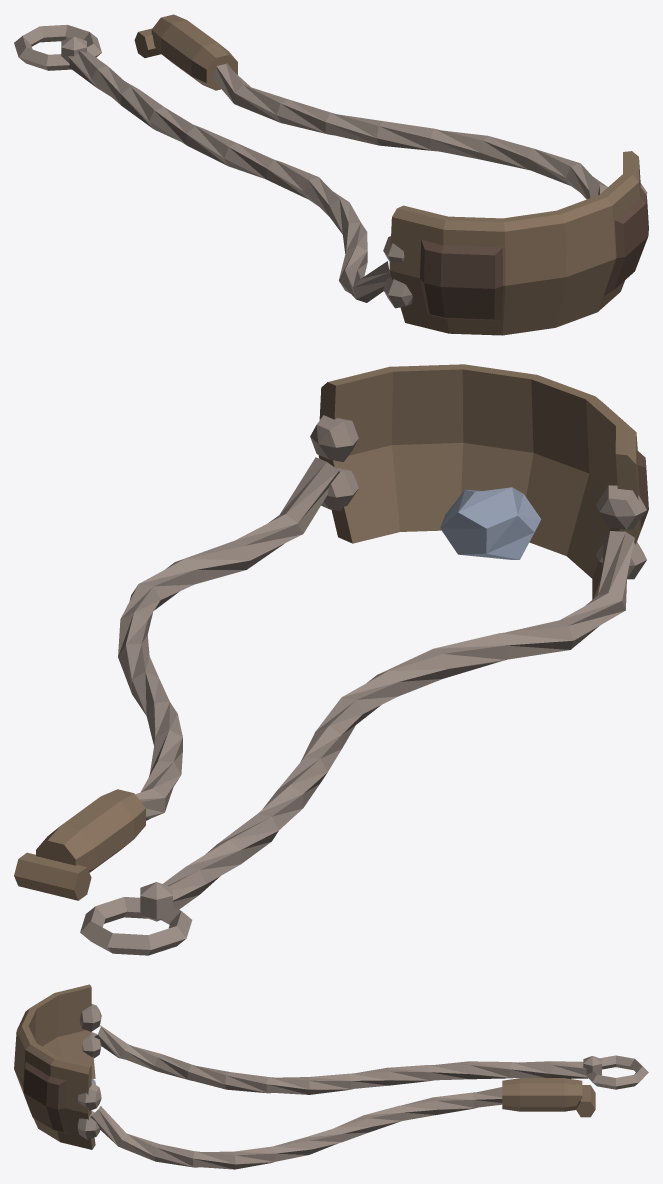
The model's file is sling-e5b9b7.glb.
The picture shows the model from 3 angles, top to bottom: view 1: azimuth 30°, elevation 25°; view 2: azimuth 150°, elevation 25°; view 3: azimuth 270°, elevation 25°; orthographic projection. The views are drawn at different scales.
Visible parts, largest first — view 1: sling-matte; view 2: sling-matte, stone-mesh; view 3: sling-matte.
Part boxes in pixels (<box>): sling-matte: <box>14,14,648,335</box>; sling-matte: <box>14,364,648,955</box>; stone-mesh: <box>440,487,541,559</box>; sling-matte: <box>14,984,648,1169</box>.
Size of the model in its own units: 0.301 by 0.11 by 0.7379.
